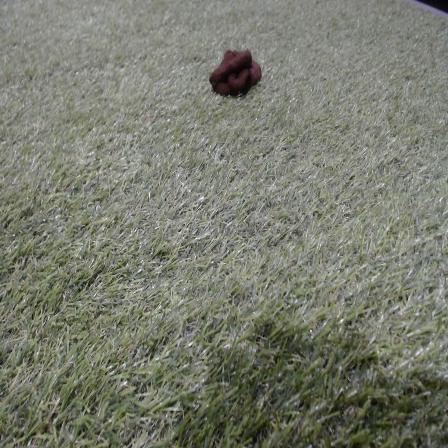dog-poop: (206, 42, 263, 100)
